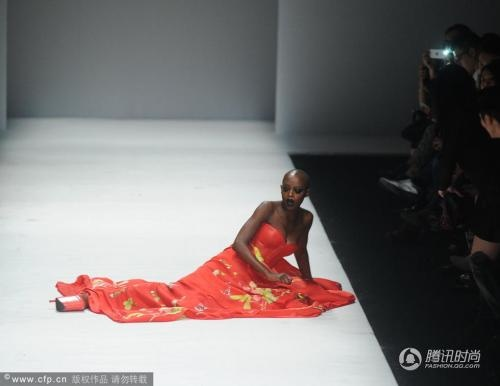falling: (36, 161, 345, 336)
